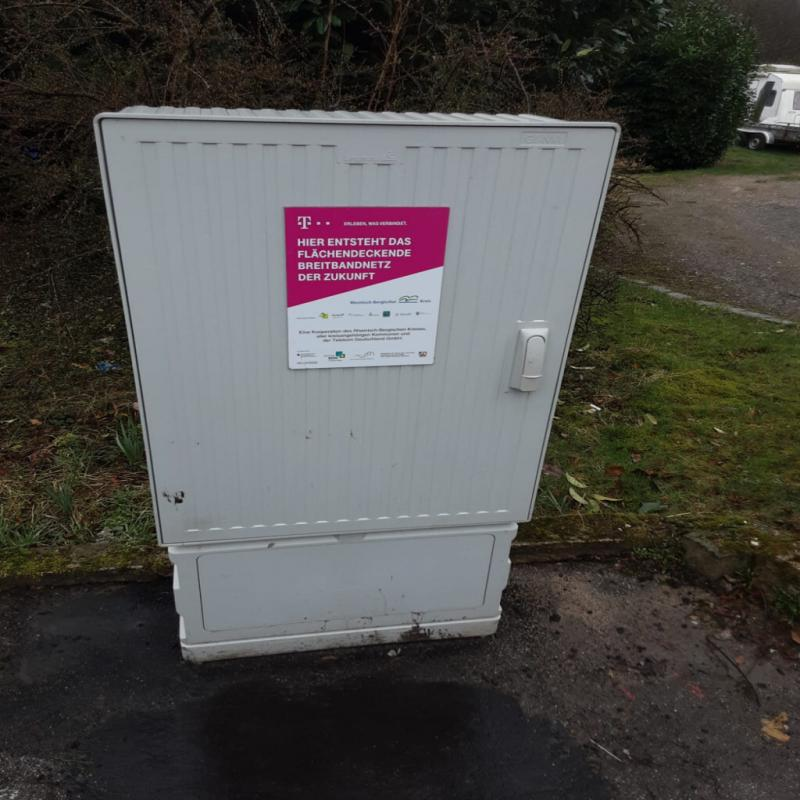NT-Gehause: (106, 102, 613, 637)
Steaker: (278, 207, 451, 364)
